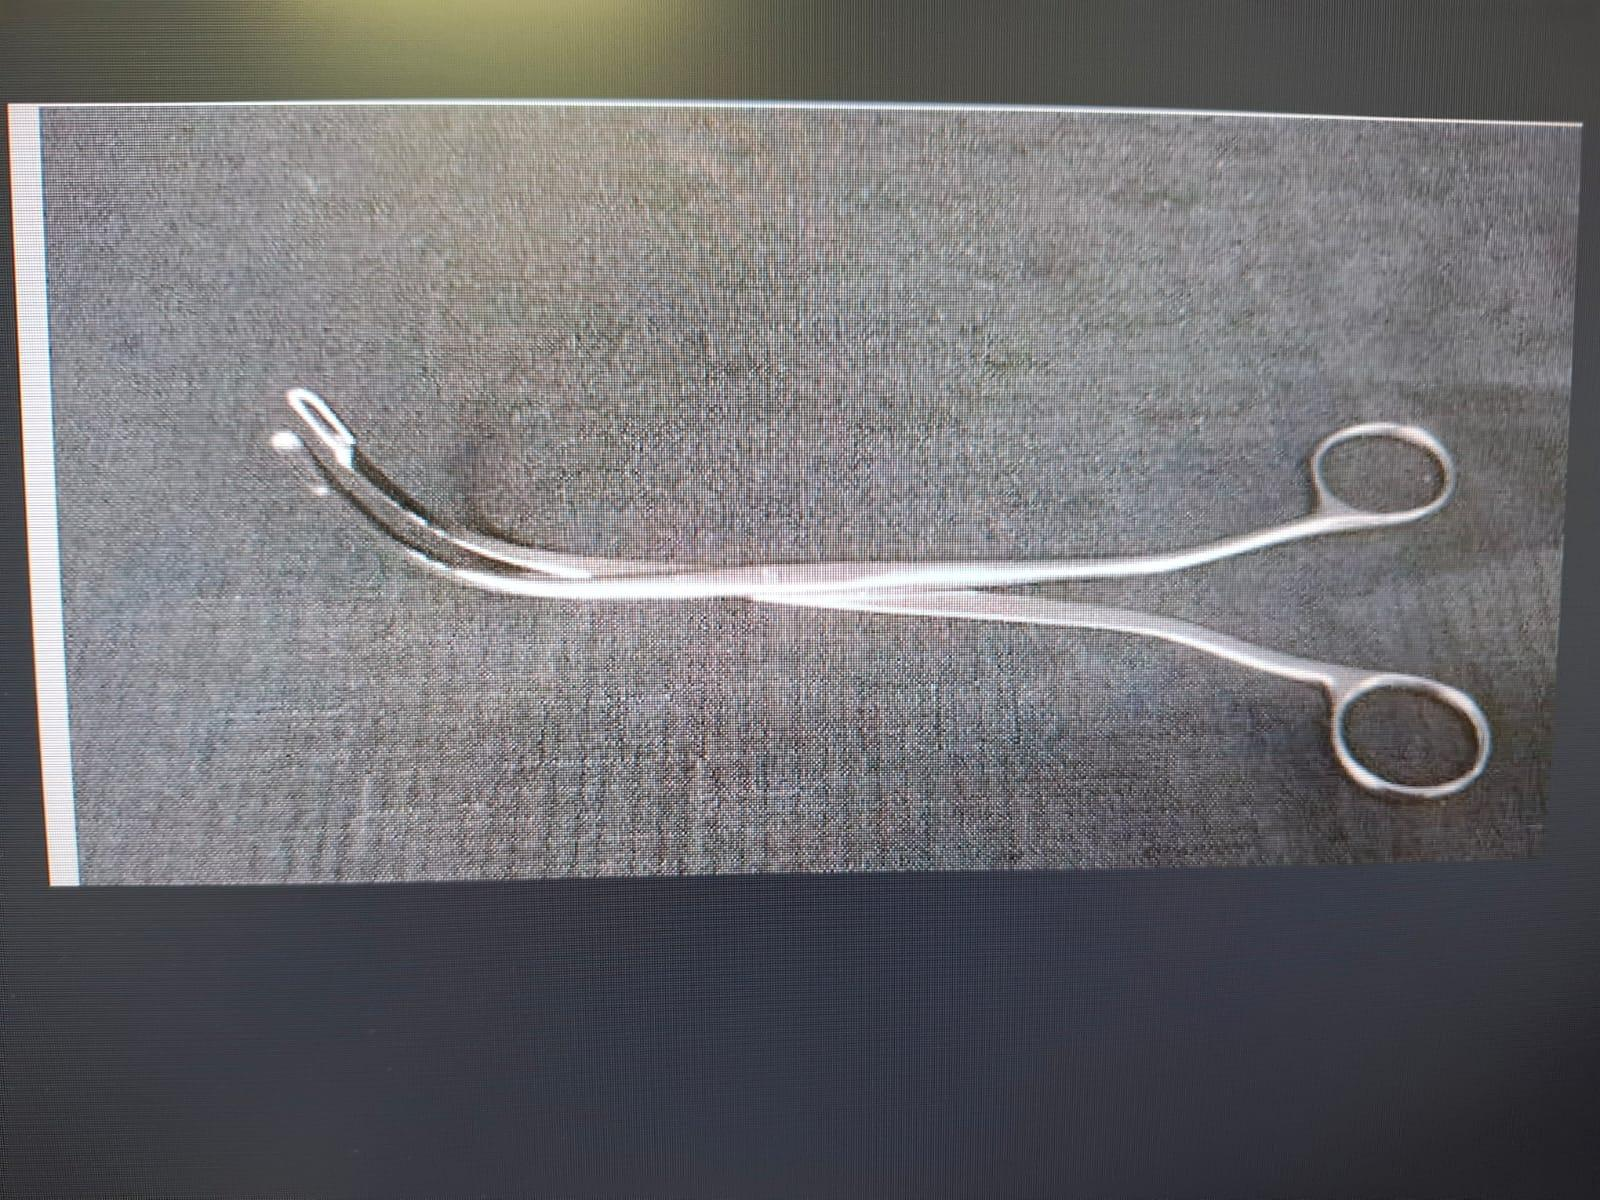Randall Forceps: (242, 338, 1512, 824)
